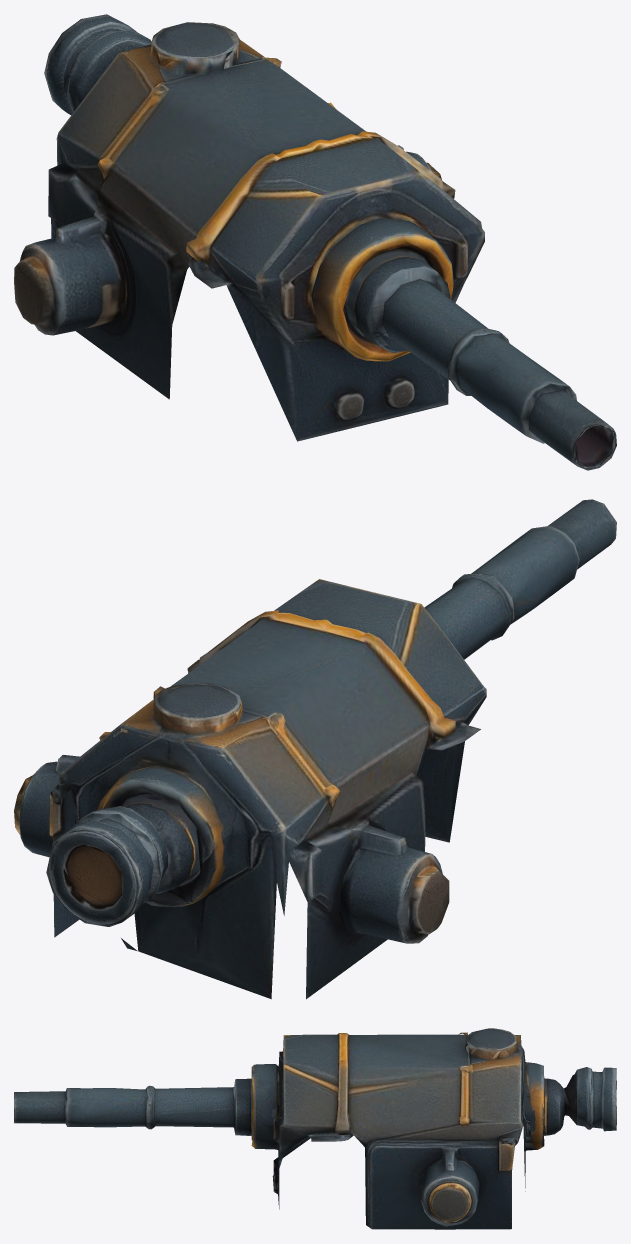
File: cannon.glb
The picture shows the model from 3 angles, top to bottom: view 1: azimuth 30°, elevation 25°; view 2: azimuth 150°, elevation 25°; view 3: azimuth 270°, elevation 25°; orthographic projection. The views are drawn at different scales.
Parts seen in each view (by area): view 1: cannon-Meshy-cleaned; view 2: cannon-Meshy-cleaned; view 3: cannon-Meshy-cleaned.
Boxes of the visible parts, bbox=[...] form: cannon-Meshy-cleaned: bbox=[14, 14, 616, 470]; cannon-Meshy-cleaned: bbox=[14, 499, 616, 999]; cannon-Meshy-cleaned: bbox=[14, 1028, 616, 1229].
Bounding box in the file's own units: 0.8294 × 0.5084 × 1.79.
1 material, 1 textured.
